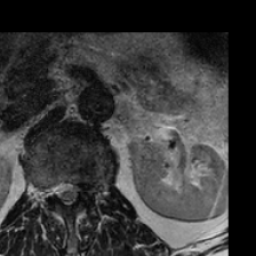CCS_normal: (63, 172, 71, 214)
LFS_severe_stenosis: (80, 175, 88, 203)
LLS_normal: (71, 172, 80, 205)
RFS_normal: (45, 178, 53, 204)
RLS_normal: (53, 173, 63, 205)
